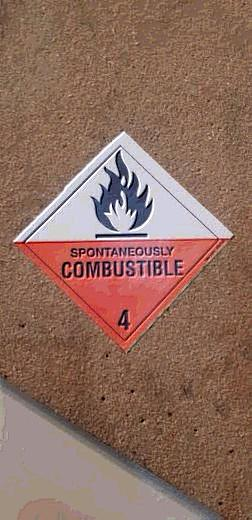spontaneously-combustible: (12, 131, 235, 355)
